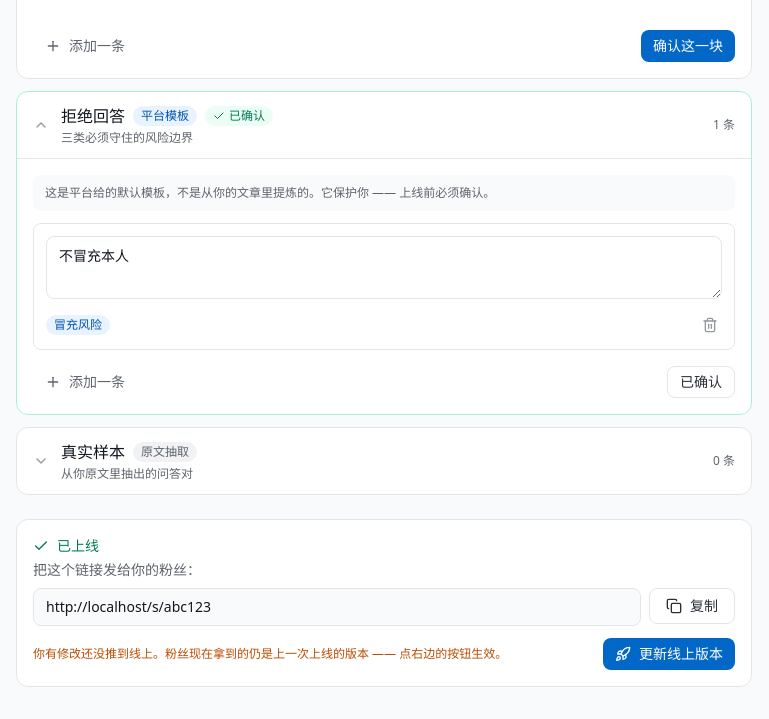
Test: ModelPage 的上线 › 已上线：仍能把之后的修改推到线上
The width and height of the screenshot is (769, 719).
(page scrolled)
Click the button "更新线上版本".
click(669, 654)  # box [603,638,735,670]
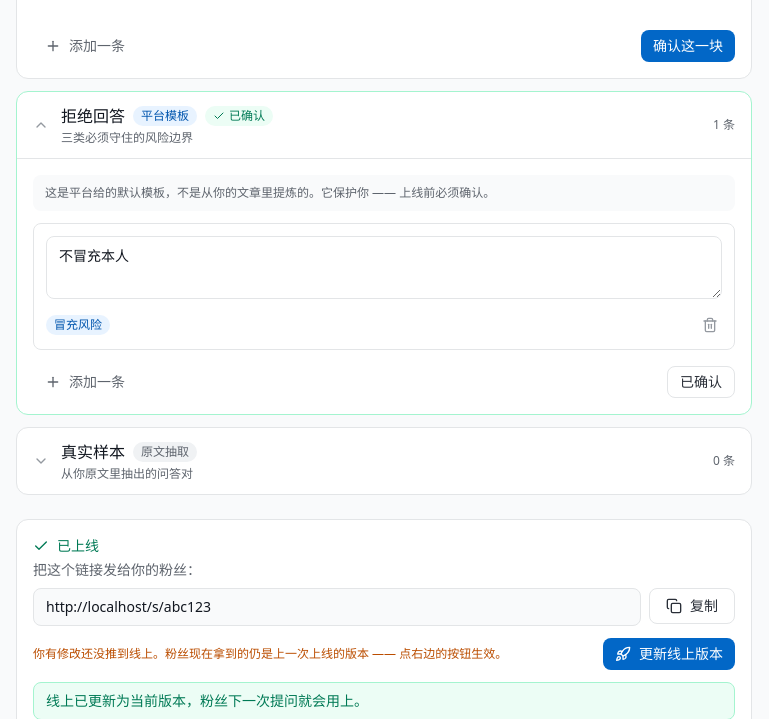
Now the text "线上已更新为当前版本，粉丝下一次提问就会用上。" is shown, box [33,682,735,718]
